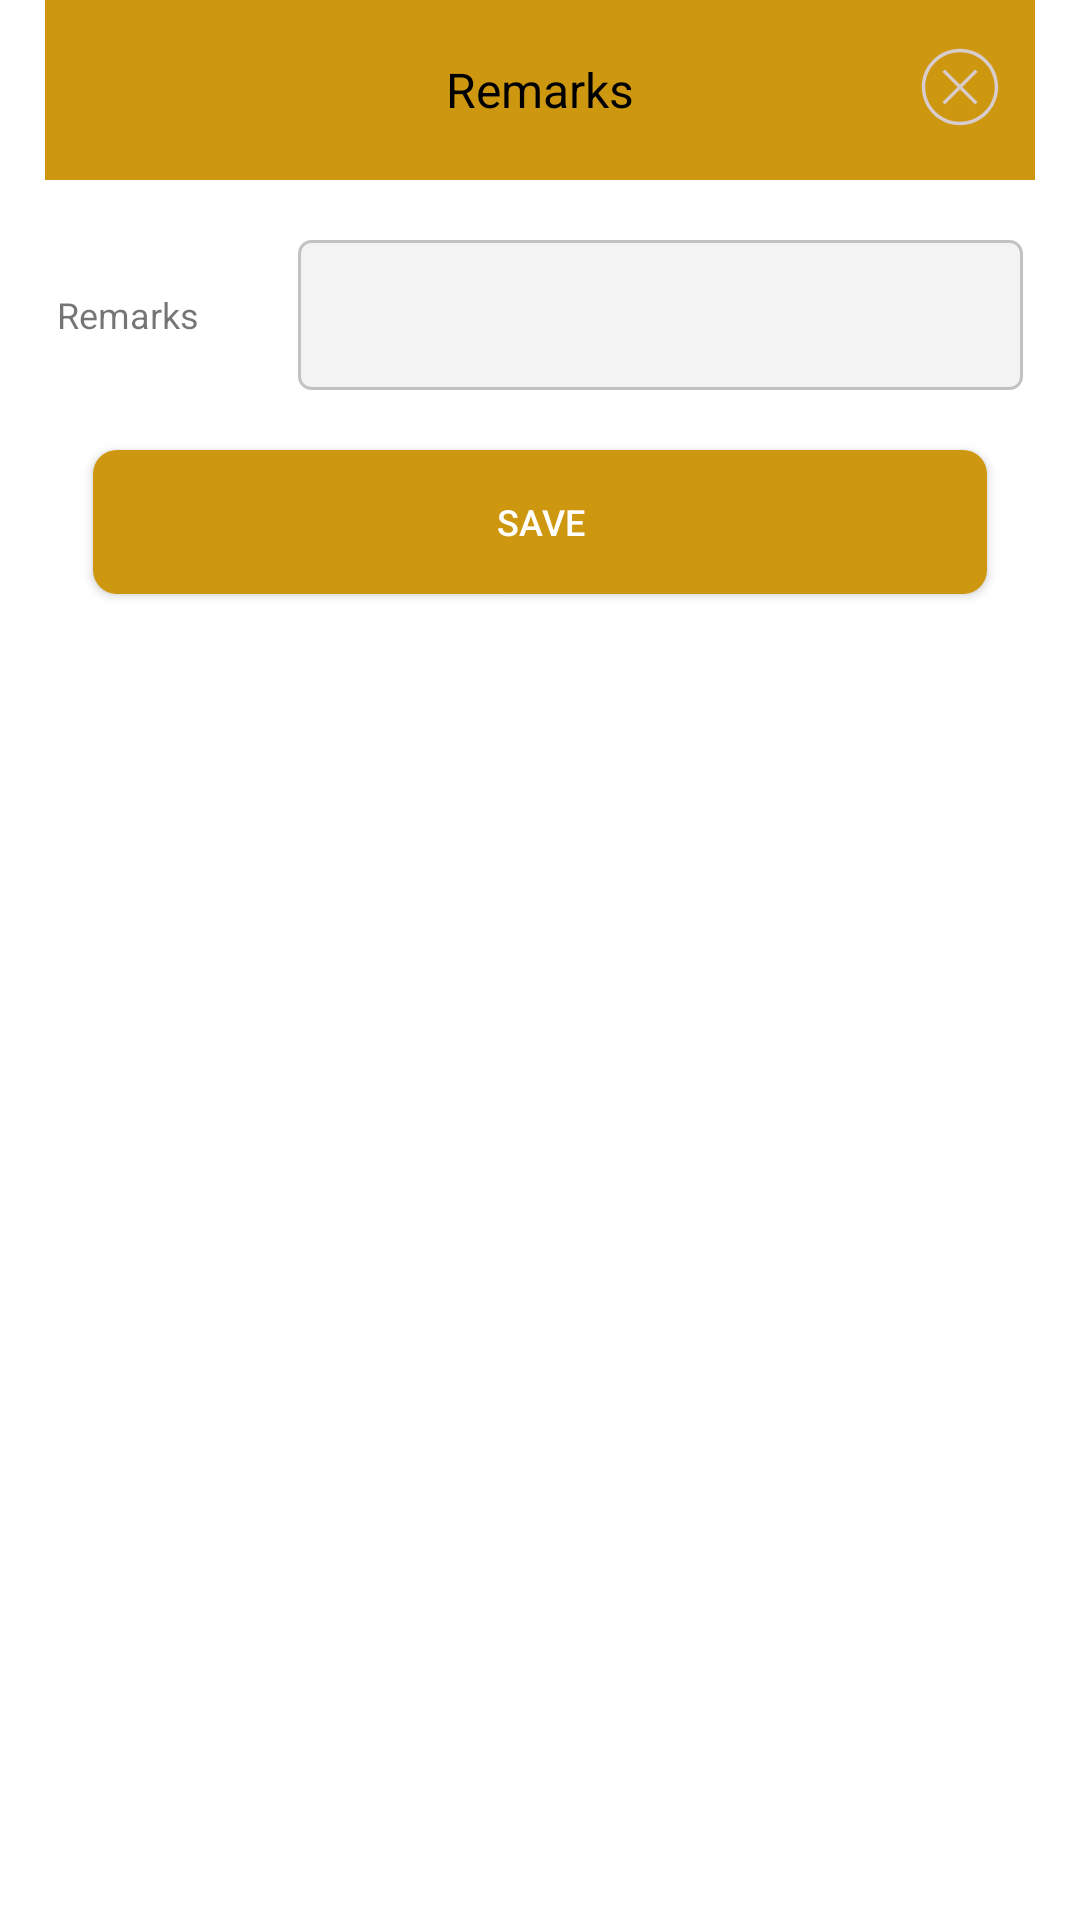

Icons on this 1080*1920 Android screen, each with the point to tap as (x,y):
cancel: (960,87)
